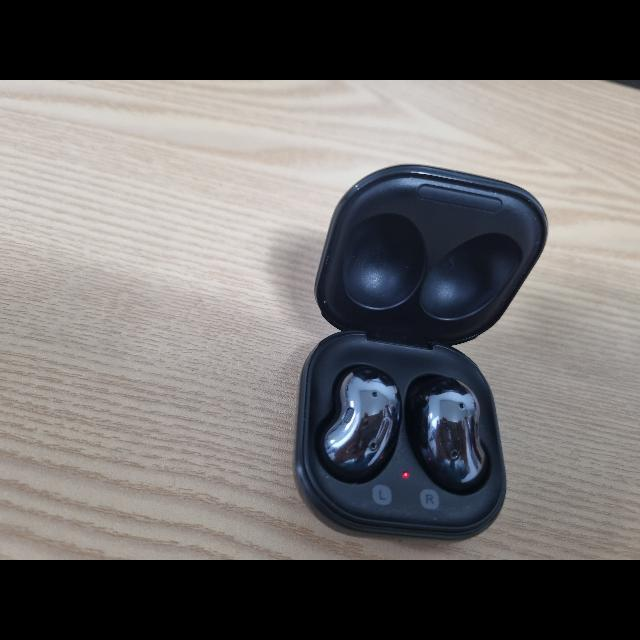buds_live: (292, 162, 550, 542)
